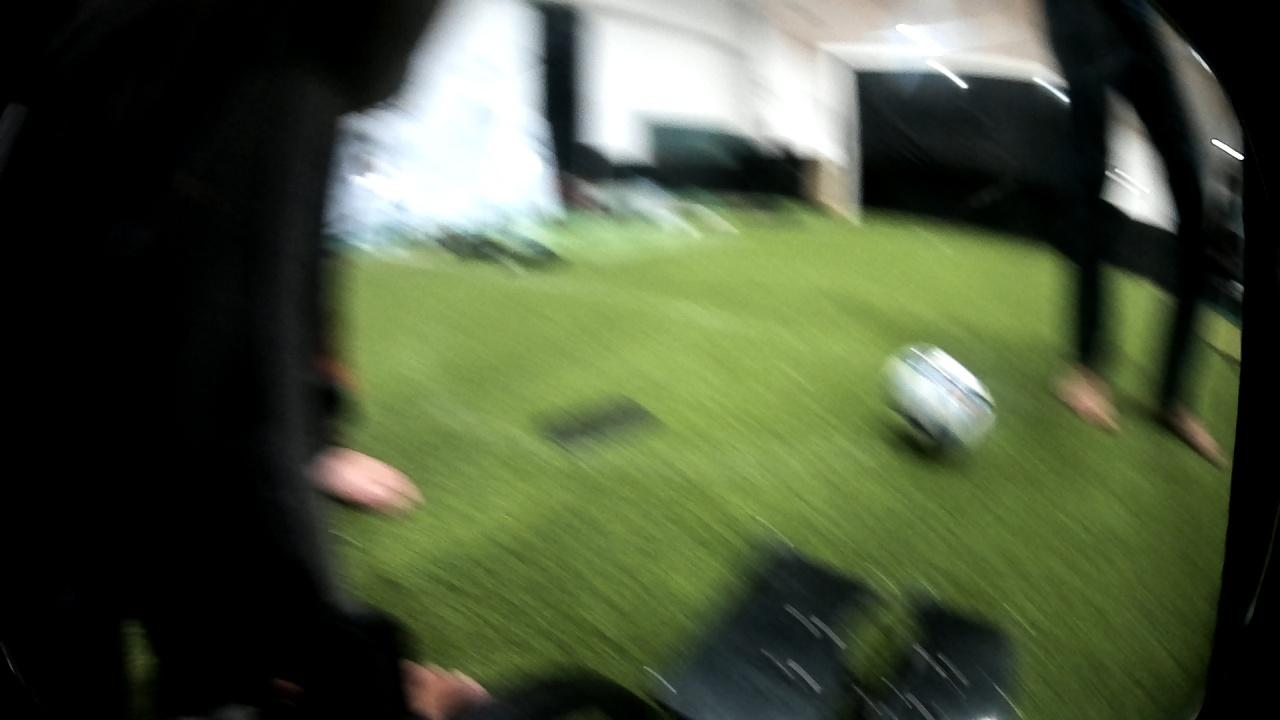ball: (873, 341, 1003, 465)
